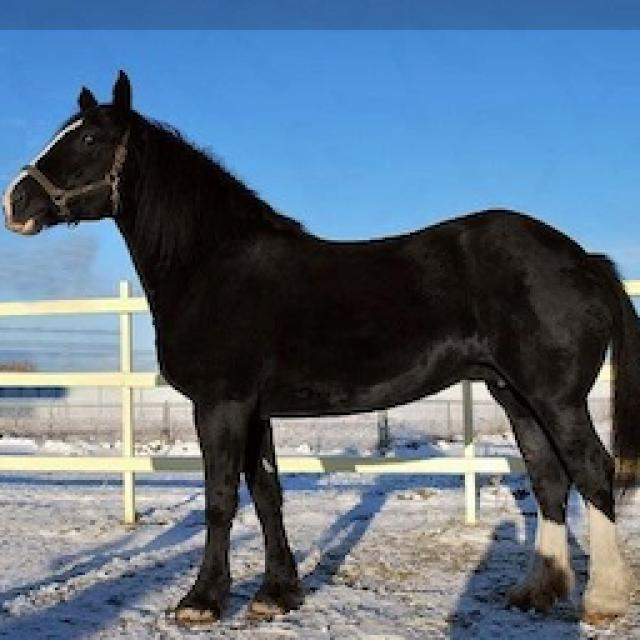Horse: (0, 65, 638, 638)
